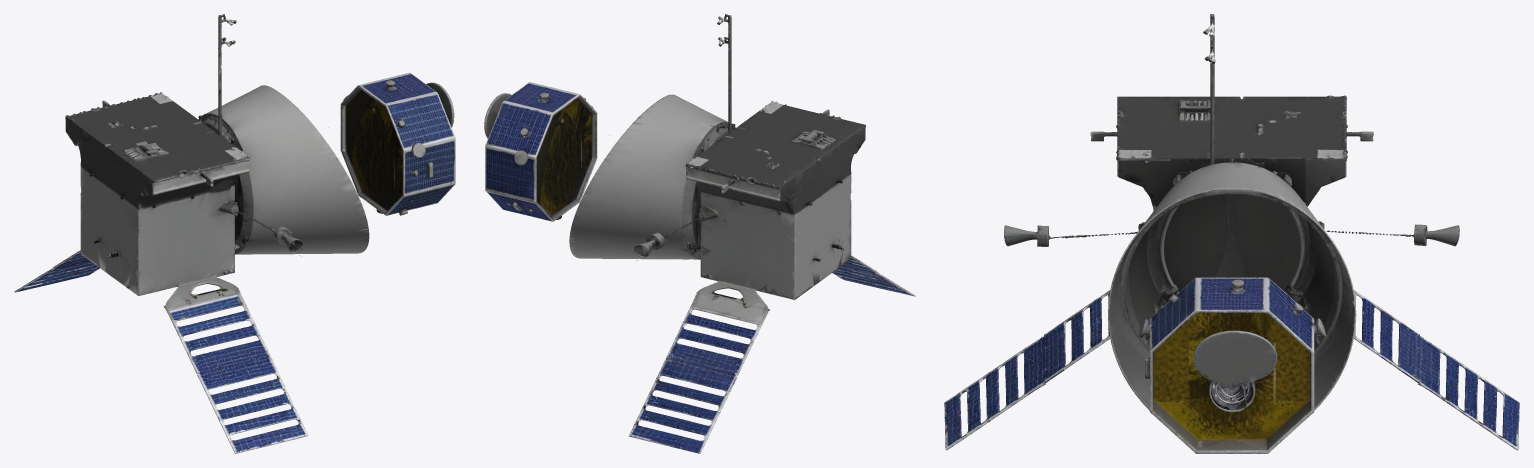
File: bepicolombo.glb
The picture shows the model from 3 angles, left to right: view 1: azimuth 30°, elevation 25°; view 2: azimuth 150°, elevation 25°; view 3: azimuth 270°, elevation 25°; orthographic projection. The views are drawn at different scales.
Bounding box in the file's own units: 1.71 × 1.61 × 1.89.
1 material, 1 textured.
